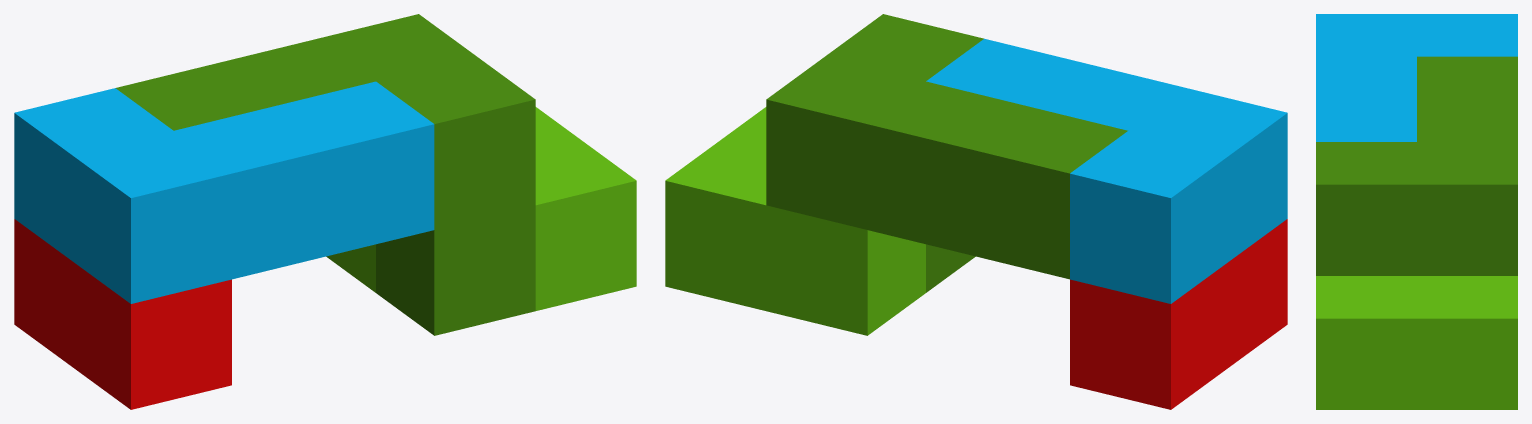
3 views of the same model, side by side, from view 1: azimuth 30°, elevation 25°; view 2: azimuth 150°, elevation 25°; view 3: azimuth 270°, elevation 25° (orthographic). The views are drawn at different scales.
Visible parts, largest first — view 1: mergedBlocks(Clone); view 2: mergedBlocks(Clone); view 3: mergedBlocks(Clone).
Boxes of the visible parts, x1,y1,x2,y2 form: mergedBlocks(Clone): (14,14,636,409); mergedBlocks(Clone): (665,14,1287,409); mergedBlocks(Clone): (1316,14,1517,409).
Bounding box in the file's own units: 5 × 2 × 2.
Materials: 4 (4 with a texture image).
